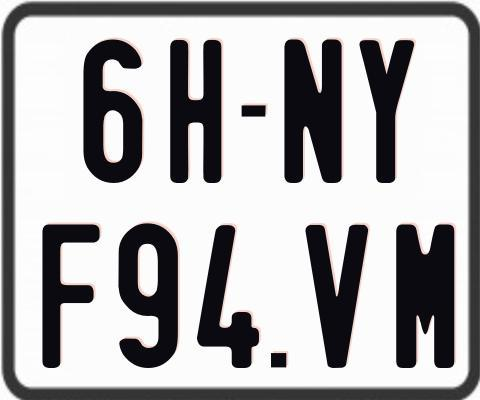4: (196, 224, 262, 373)
6: (80, 36, 140, 184)
9: (118, 220, 183, 369)
F: (39, 223, 97, 370)
H: (167, 38, 219, 181)
M: (394, 222, 454, 367)
N: (283, 38, 343, 182)
V: (304, 222, 372, 370)
Y: (359, 40, 413, 186)
